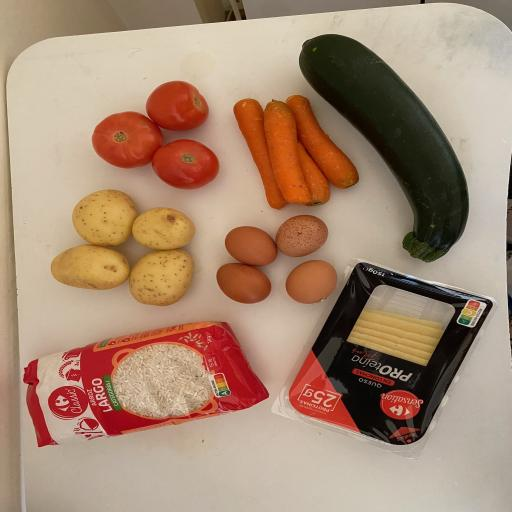carrot: (269, 83, 370, 198), (248, 89, 340, 213), (265, 93, 355, 213), (225, 86, 300, 212)
cheese: (261, 251, 506, 458)
courgette: (282, 31, 492, 266)
egg: (202, 255, 288, 314), (268, 200, 340, 264), (277, 252, 351, 310), (216, 212, 282, 271)
potato: (52, 180, 156, 259), (117, 228, 206, 318), (41, 240, 157, 294), (117, 200, 212, 257)
rice: (13, 316, 275, 470)
tomato: (80, 101, 170, 180), (141, 130, 225, 198), (135, 70, 221, 136)
